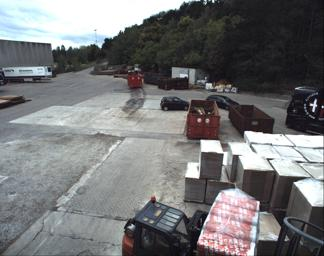rockwool_batts: (191, 188, 260, 255)
